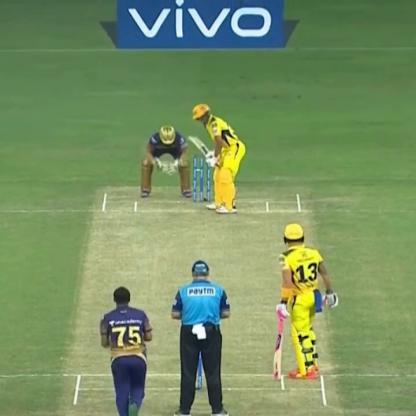bat: (185, 128, 221, 172)
pitch: (66, 192, 334, 414)
